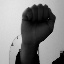a: (20, 3, 57, 46)
